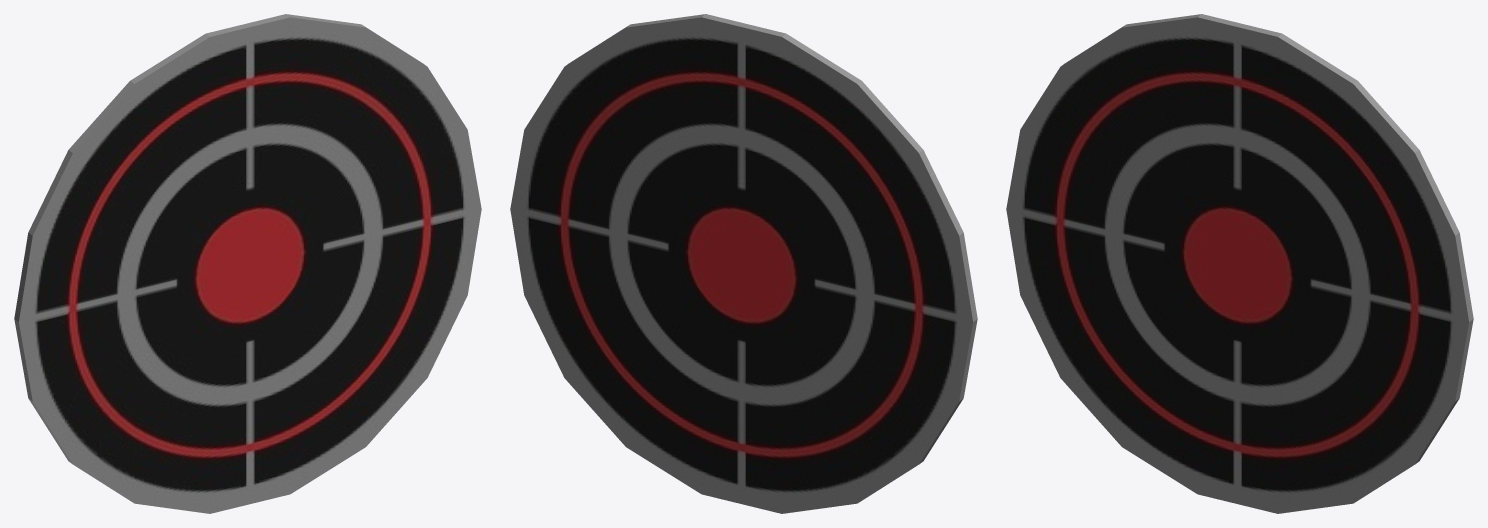
File: target2.glb
The picture shows the model from 3 angles, left to right: view 1: azimuth 30°, elevation 25°; view 2: azimuth 150°, elevation 25°; view 3: azimuth 330°, elevation 25°; orthographic projection.
Parts seen in each view (by area): view 1: target2json; view 2: target2json; view 3: target2json.
Boxes of the visible parts, box(x1,y1,x2,y2) form: target2json: box(14, 14, 481, 513); target2json: box(510, 14, 977, 513); target2json: box(1006, 14, 1473, 513).
Size of the model in its own units: 0.5995 by 0.5904 by 0.0102.
1 material, 1 textured.
